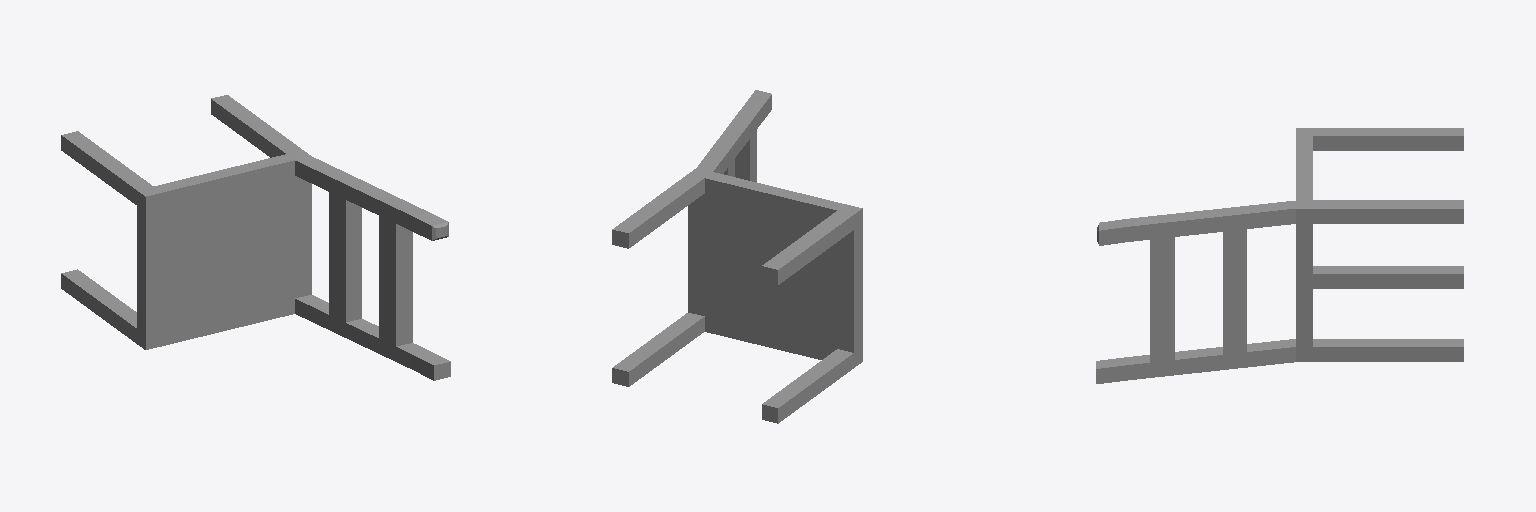
The model's file is chaise.obj.
3 renders of one model, left to right at view 1: azimuth 30°, elevation 25°; view 2: azimuth 150°, elevation 25°; view 3: azimuth 270°, elevation 25°, orthographic.
Size of the model in its own units: 2.93 by 2.14 by 4.56.